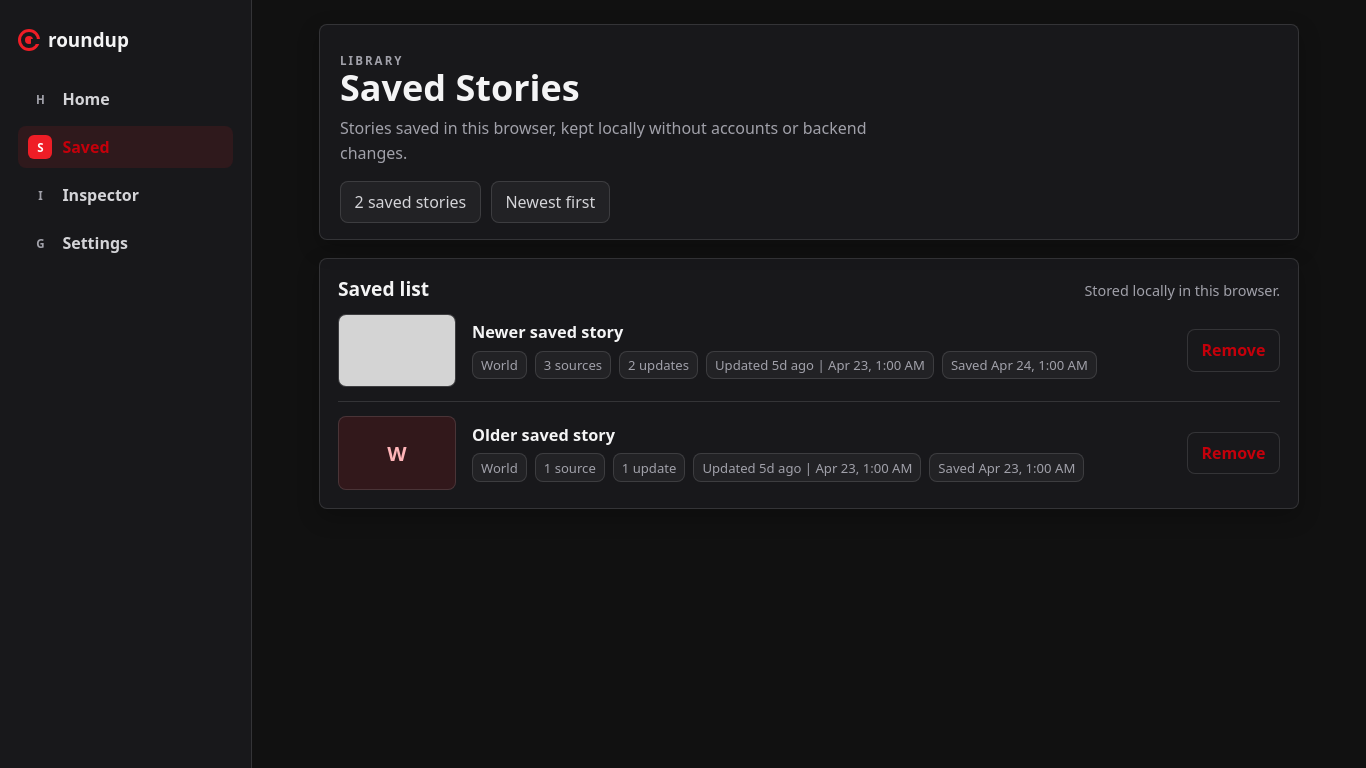
Test: SavedStoriesPage › renders saved stories newest first with metadata, thumbnail, and remove control
The width and height of the screenshot is (1366, 768).
Expected: the heading "Saved Stories" is shown, left=340, top=63, right=580, bottom=112
Expected: the text "2 saved stories" is shown, left=340, top=181, right=481, bottom=222
Step 1. Click the button with aria-label "remove saved story: newer saved story" → (1233, 350), box left=1187, top=329, right=1280, bottom=372
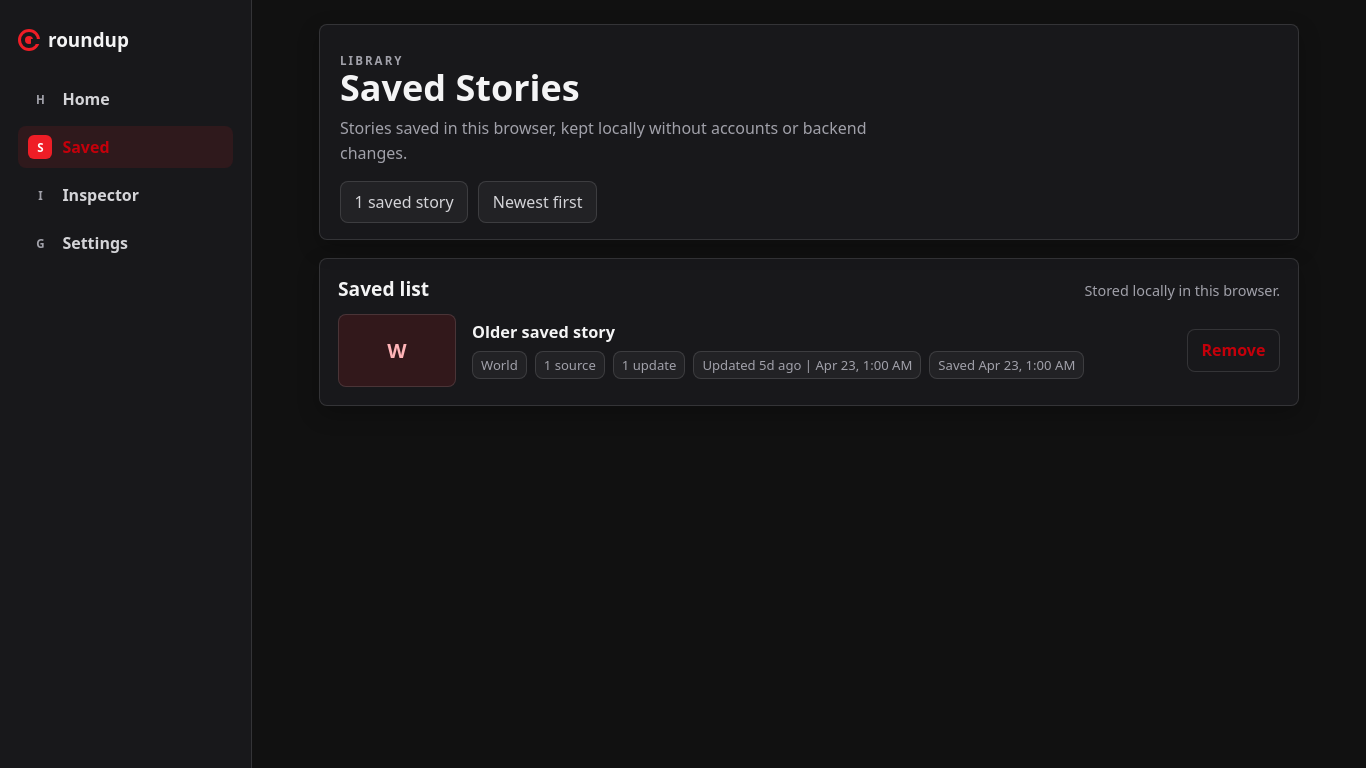
Expected: the link "Newer saved story" is gone
